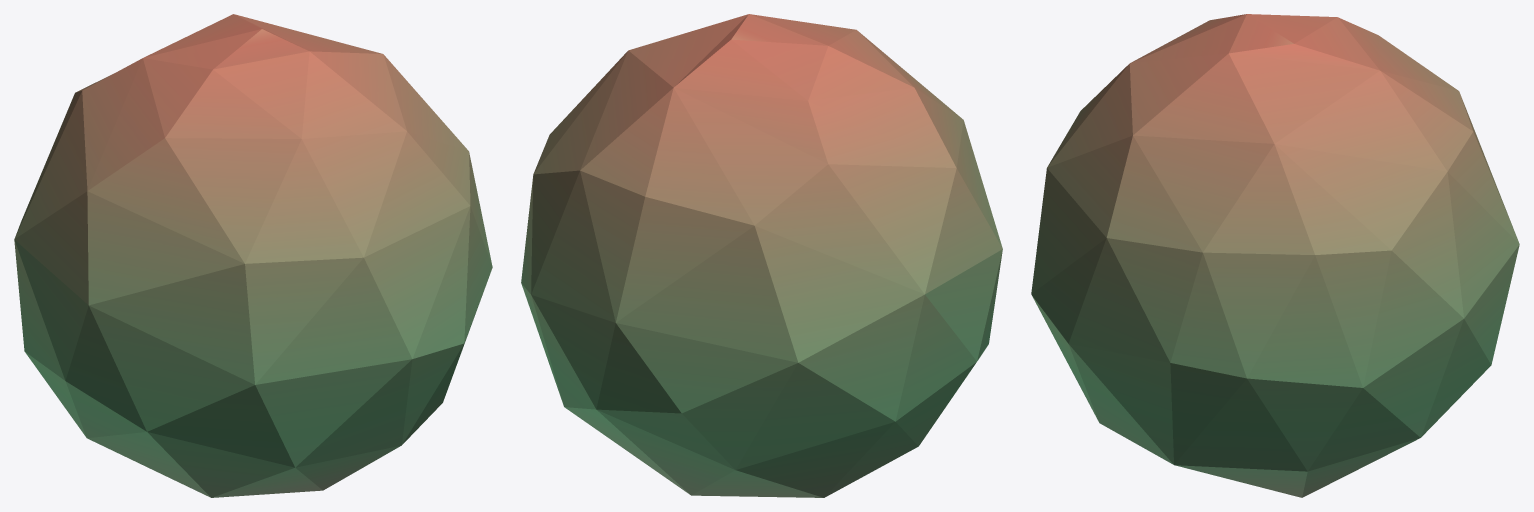
File: player_cloneObject_handing.obj
3 renders of one model, left to right at view 1: azimuth 30°, elevation 25°; view 2: azimuth 150°, elevation 25°; view 3: azimuth 270°, elevation 25°, orthographic.
Parts seen in each view (by area): view 1: cloneObject_handing; view 2: cloneObject_handing; view 3: cloneObject_handing.
Boxes of the visible parts, bbox=[...] form: cloneObject_handing: bbox=[14, 14, 492, 497]; cloneObject_handing: bbox=[521, 14, 1002, 497]; cloneObject_handing: bbox=[1031, 14, 1519, 497].
Bounding box in the file's own units: 0.2976 × 0.3026 × 0.304.
